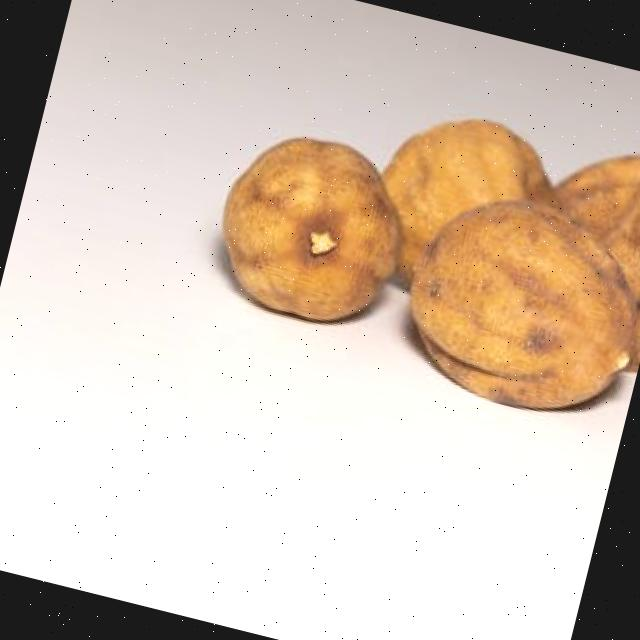overripe: (387, 169, 640, 435), (202, 115, 425, 338)
